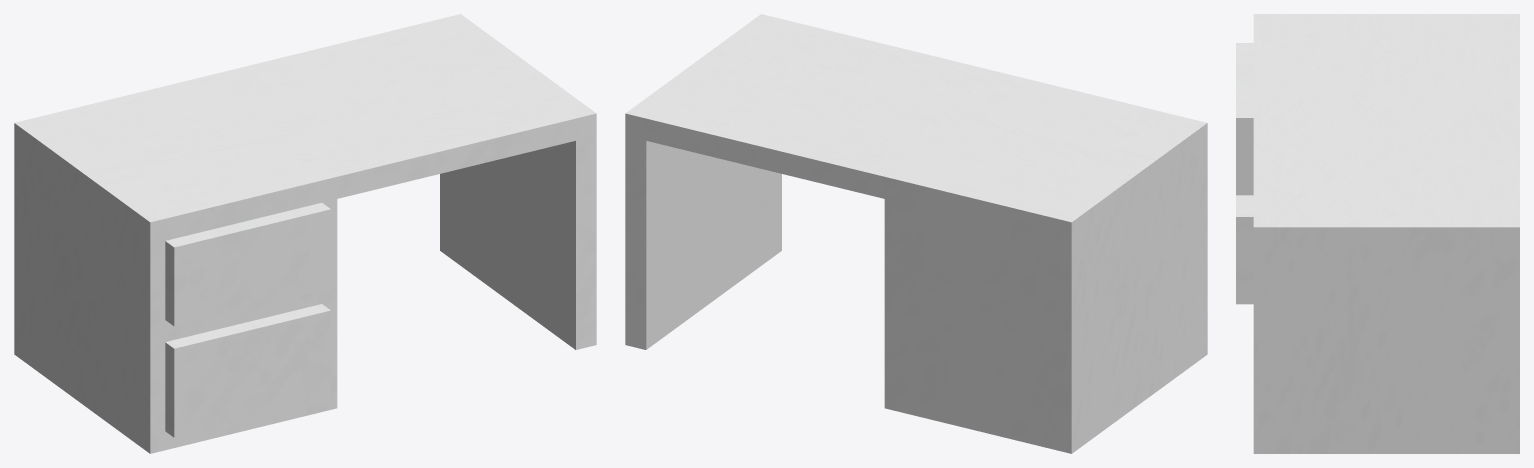
The model's file is room_desk.fbx.
3 views of the same model, side by side, from view 1: azimuth 30°, elevation 25°; view 2: azimuth 150°, elevation 25°; view 3: azimuth 270°, elevation 25° (orthographic). The views are drawn at different scales.
Parts seen in each view (by area): view 1: pCube1; view 2: pCube1; view 3: pCube1.
Boxes of the visible parts, x1,y1,x2,y2 form: pCube1: (14, 14, 596, 453); pCube1: (625, 14, 1207, 453); pCube1: (1236, 14, 1519, 453).
Bounding box in the file's own units: 2.04 × 1.01 × 1.15.
1 material, 1 textured.
